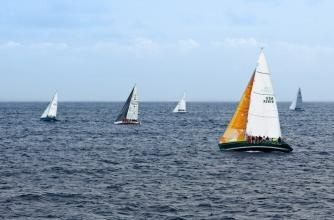fanchuan: (214, 47, 294, 154), (108, 82, 148, 126), (35, 89, 67, 123), (169, 89, 193, 115), (291, 87, 309, 113)
